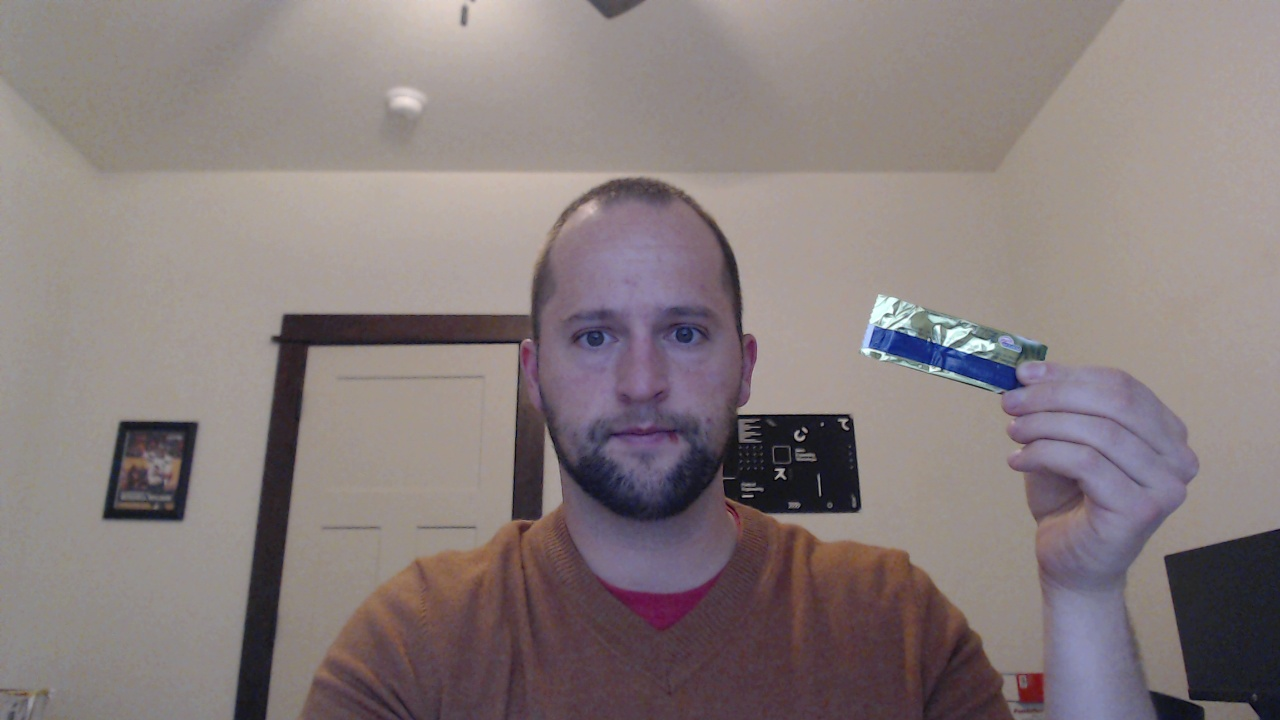airheads: (852, 279, 1063, 402)
